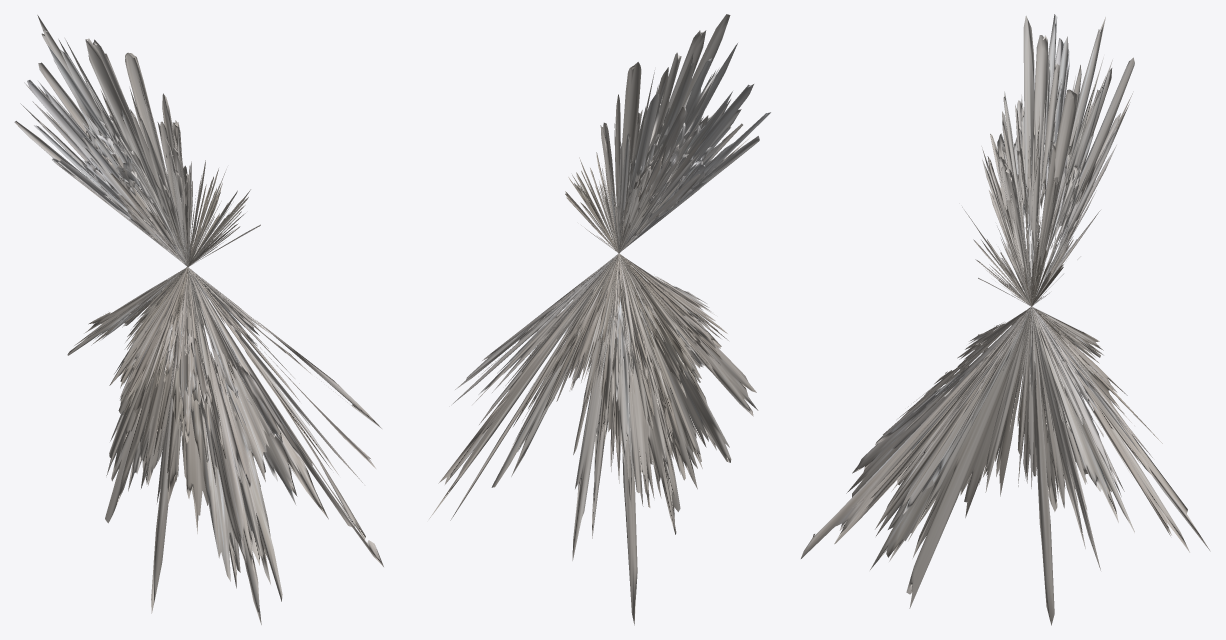
The picture shows the model from 3 angles, left to right: view 1: azimuth 30°, elevation 25°; view 2: azimuth 150°, elevation 25°; view 3: azimuth 270°, elevation 25°; orthographic projection. The views are drawn at different scales.
Bounding box in the file's own units: 6094576 × 1.29e+07 × 8396514.
Materials: 1 (1 with a texture image).
